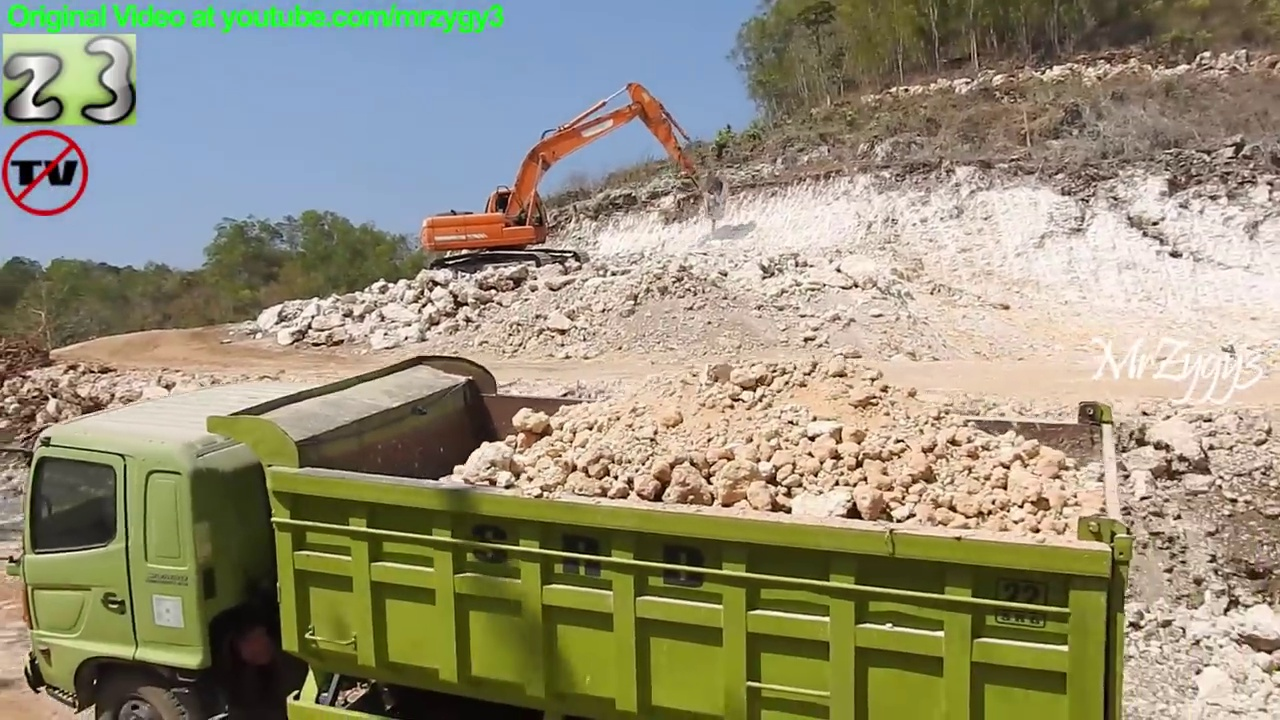excavator breaker: (415, 76, 730, 289)
truck: (2, 348, 1148, 720)
